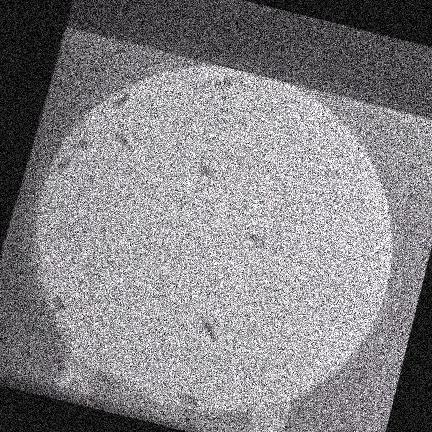fly: (214, 73, 240, 90), (110, 128, 132, 148), (245, 229, 266, 248), (176, 392, 204, 406), (55, 151, 72, 174), (198, 162, 217, 181), (201, 317, 216, 339), (112, 90, 129, 108), (71, 137, 90, 149), (52, 294, 65, 311)
